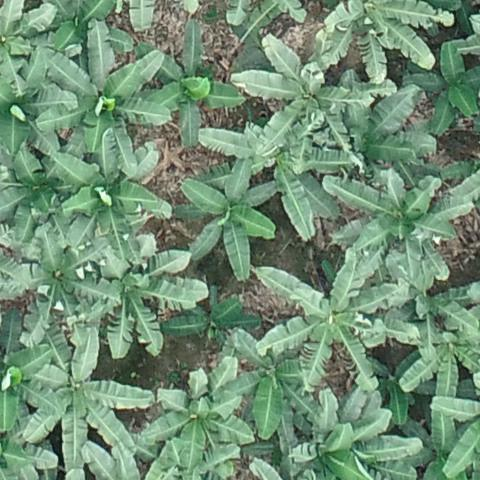Banana-plant: (46, 20, 169, 178), (254, 263, 399, 390), (24, 327, 151, 471), (321, 173, 473, 289), (232, 33, 372, 155), (199, 128, 347, 242), (52, 128, 171, 258), (138, 19, 245, 153), (1, 225, 119, 345), (168, 157, 279, 281), (108, 238, 207, 359), (292, 390, 421, 480), (150, 369, 253, 469), (219, 327, 307, 439), (320, 0, 439, 82), (0, 46, 77, 167), (0, 309, 60, 439), (395, 314, 480, 405), (0, 151, 75, 247), (407, 47, 480, 136), (0, 0, 56, 91), (160, 297, 262, 343), (51, 0, 135, 53)
